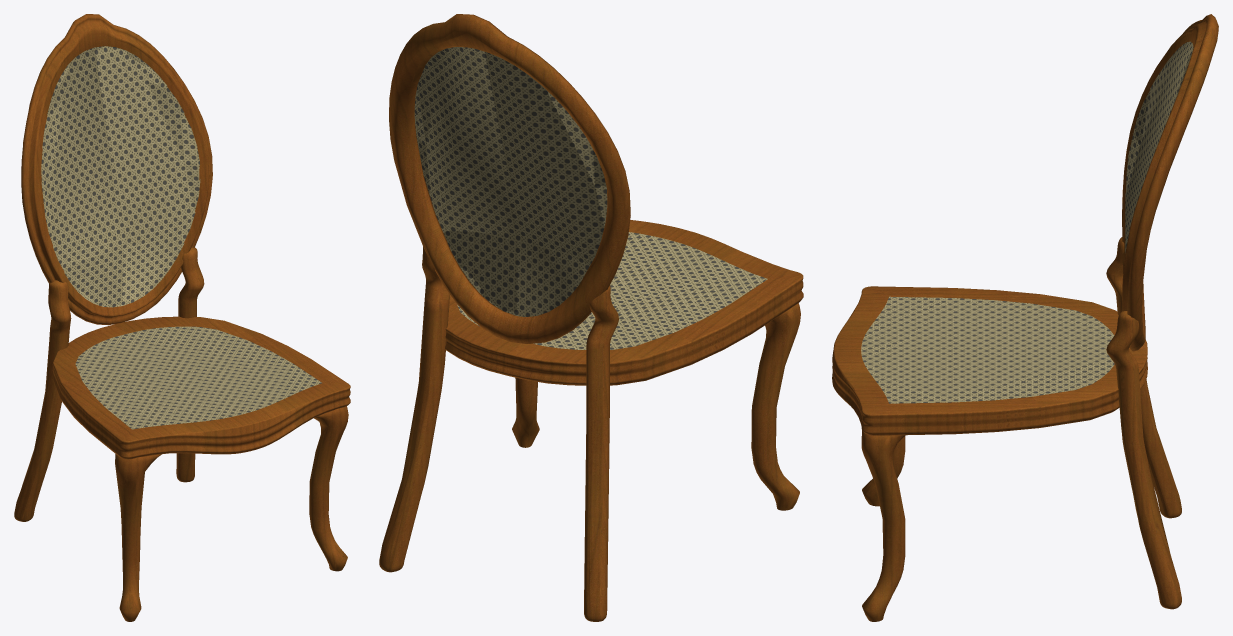
File: chair_dining.glb
3 renders of one model, left to right at view 1: azimuth 30°, elevation 25°; view 2: azimuth 150°, elevation 25°; view 3: azimuth 270°, elevation 25°, orthographic. The views are drawn at different scales.
Parts seen in each view (by area): view 1: Leuning_Torus.004, Zitting_Plane.082, Voorpoten_Cylinder.066, Achterpoten_Cube.355; view 2: Leuning_Torus.004, Zitting_Plane.082, Achterpoten_Cube.355, Voorpoten_Cylinder.066; view 3: Zitting_Plane.082, Leuning_Torus.004, Achterpoten_Cube.355, Voorpoten_Cylinder.066.
Boxes of the visible parts, x1=… form: Leuning_Torus.004: x1=21, y1=14, x2=212, y2=325; Zitting_Plane.082: x1=52, y1=316, x2=350, y2=459; Voorpoten_Cylinder.066: x1=115, y1=406, x2=348, y2=621; Achterpoten_Cube.355: x1=14, y1=247, x2=204, y2=521; Leuning_Torus.004: x1=389, y1=14, x2=630, y2=343; Zitting_Plane.082: x1=445, y1=220, x2=803, y2=385; Achterpoten_Cube.355: x1=379, y1=247, x2=618, y2=621; Voorpoten_Cylinder.066: x1=512, y1=303, x2=800, y2=510; Zitting_Plane.082: x1=832, y1=286, x2=1147, y2=435; Leuning_Torus.004: x1=1122, y1=14, x2=1218, y2=351; Achterpoten_Cube.355: x1=1106, y1=237, x2=1181, y2=609; Voorpoten_Cylinder.066: x1=861, y1=430, x2=905, y2=621.
Bounding box in the file's own units: 0.498 × 0.982 × 0.632.
Materials: 2 (2 with a texture image).
